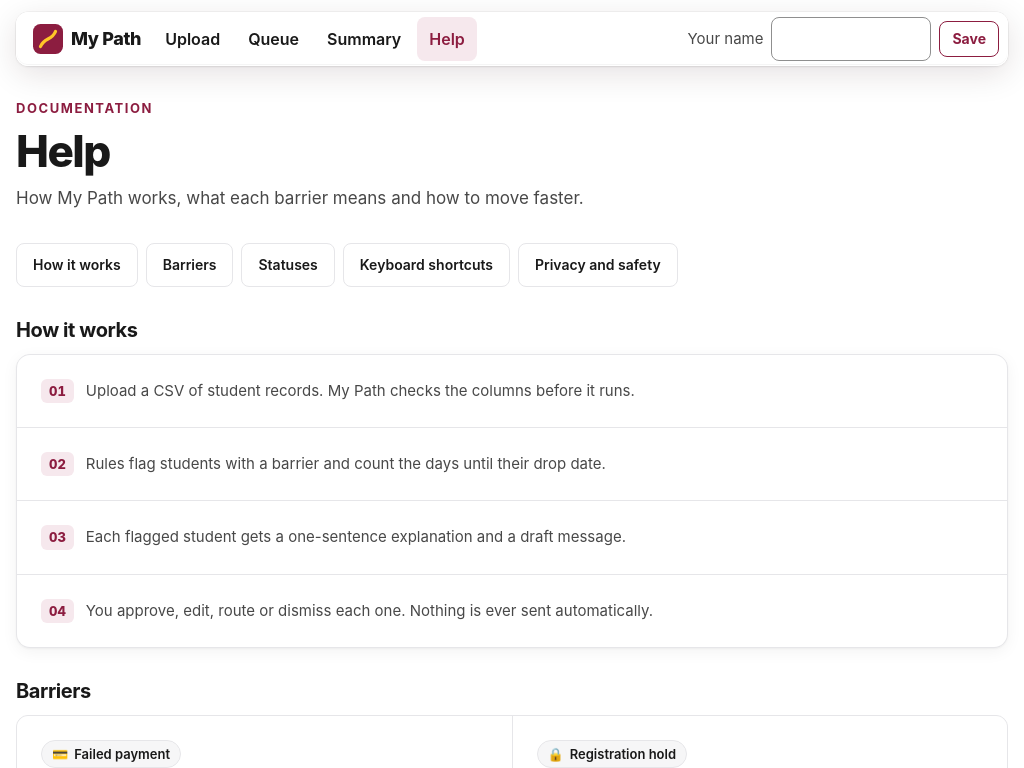
Test case: app shell › saves the coach name for the action log
The image size is (1024, 768).
Step 1. Type "Coach Kim" into the field labelled "Your name" → coordinates (852, 39), box [772,17,932,61]
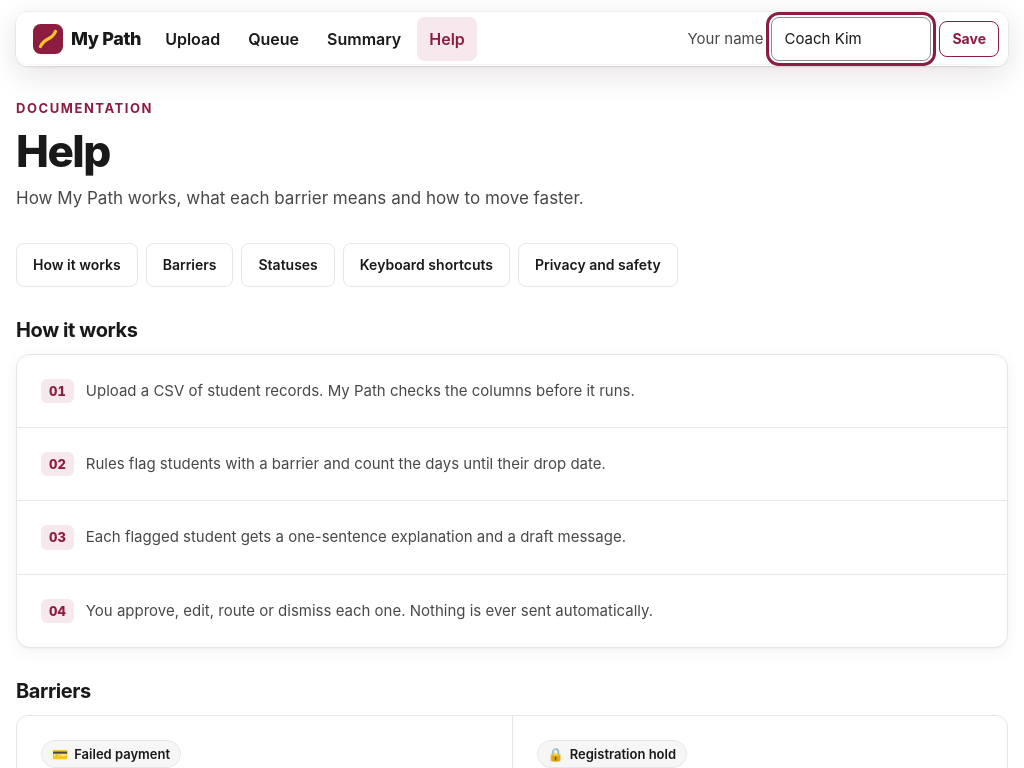
Step 2. Click the button "Save" → coordinates (969, 39), box [940,21,999,57]
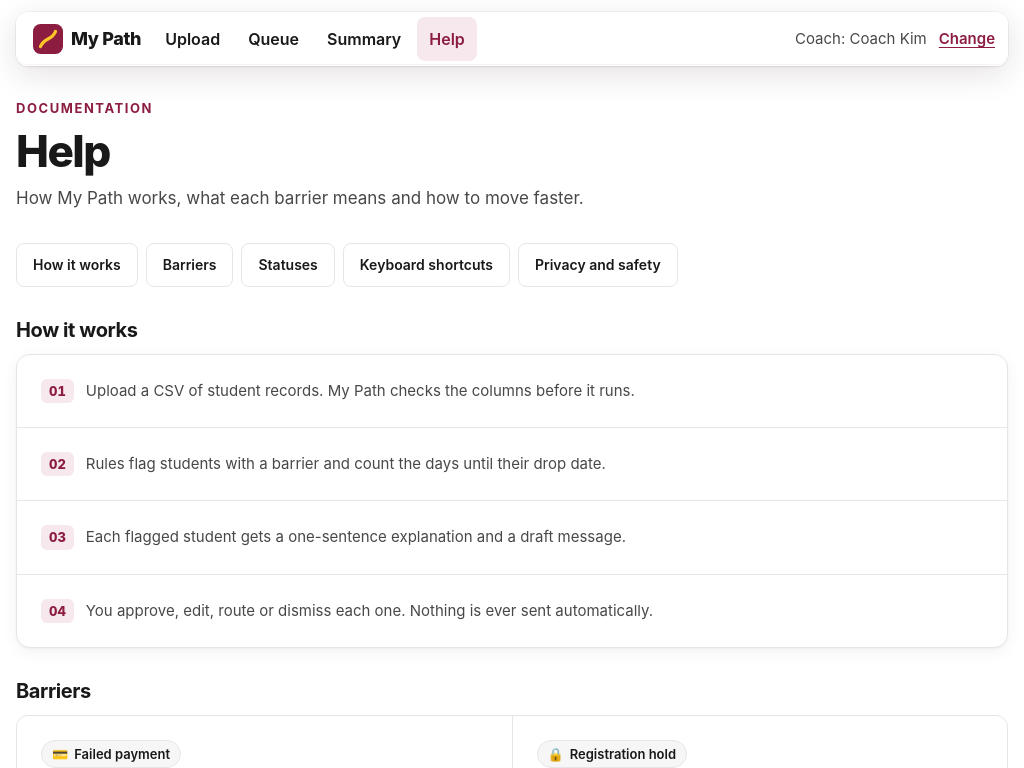
Result: the text "Coach: Coach Kim" is shown at [795,27,927,51]
